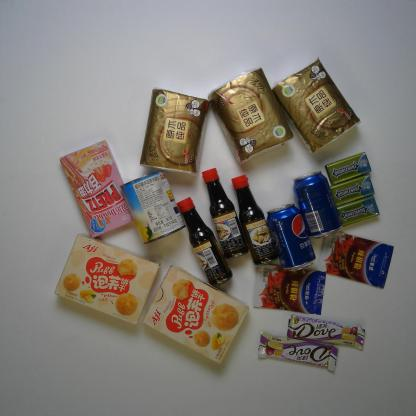Canned Food: (119, 169, 186, 245)
Chocolate: (257, 331, 339, 372), (286, 314, 366, 351)
Dessert: (141, 262, 250, 364), (53, 232, 161, 326), (59, 140, 136, 238)
Drink: (292, 170, 343, 239), (266, 203, 316, 272)
Gum: (325, 152, 371, 186), (336, 194, 380, 228), (329, 174, 375, 206)
Seasoner: (176, 196, 233, 287), (316, 231, 394, 289), (201, 167, 249, 260), (231, 174, 278, 267), (253, 264, 326, 316)
Tissue: (271, 57, 361, 155), (207, 66, 294, 165), (139, 89, 210, 175)
